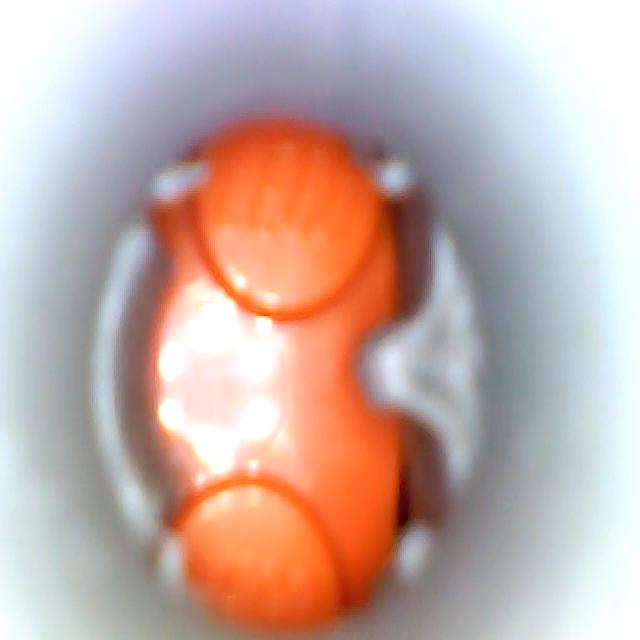studs: (195, 125, 383, 317), (175, 472, 343, 629)
